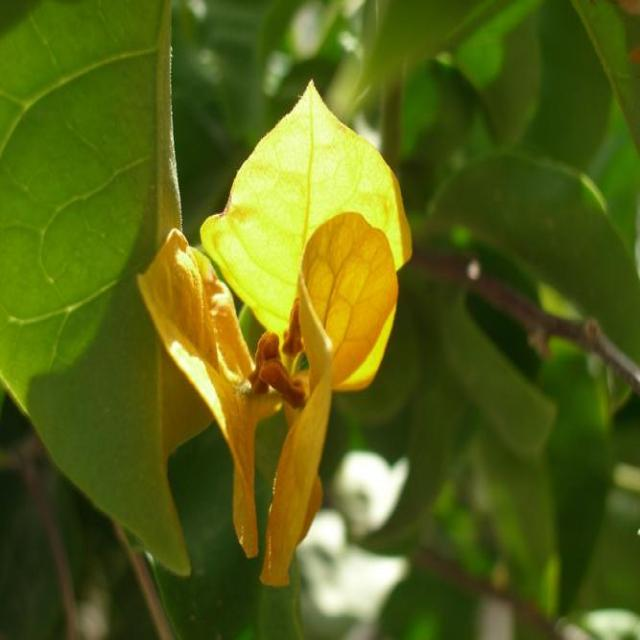bougainvillea: (94, 39, 494, 640)
